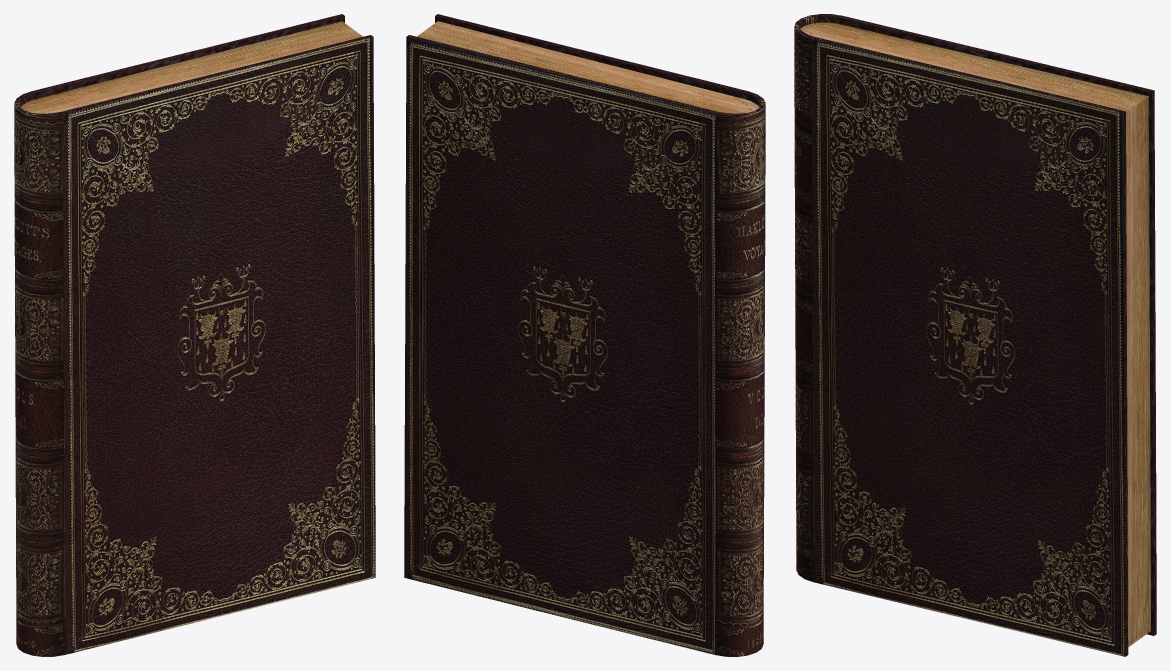
Rendered from SM_Book05.fbx.
3 renders of one model, left to right at view 1: azimuth 30°, elevation 25°; view 2: azimuth 150°, elevation 25°; view 3: azimuth 330°, elevation 25°, orthographic.
Parts seen in each view (by area): view 1: SM_Book_HP.006; view 2: SM_Book_HP.006; view 3: SM_Book_HP.006.
Part boxes in pixels (x1,y1,x2,y2): SM_Book_HP.006: (14,14,375,656); SM_Book_HP.006: (404,14,765,656); SM_Book_HP.006: (794,14,1156,656).
Size of the model in its own units: 17.25 by 26.21 by 2.73.
Materials: 2 (2 with a texture image).
